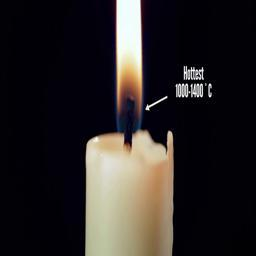fire: (114, 1, 143, 133)
